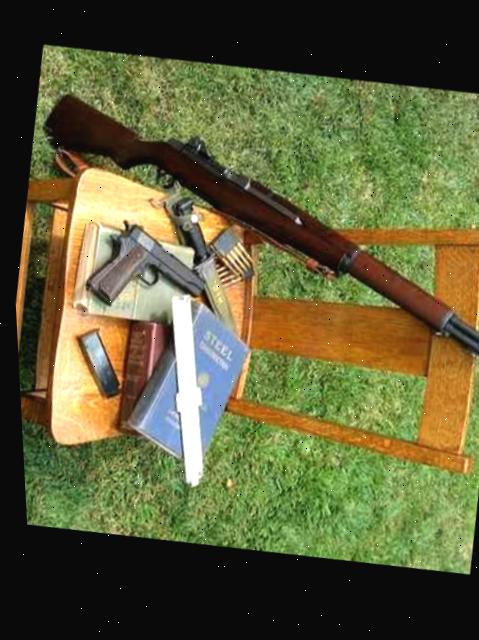rifle: (4, 72, 479, 402)
